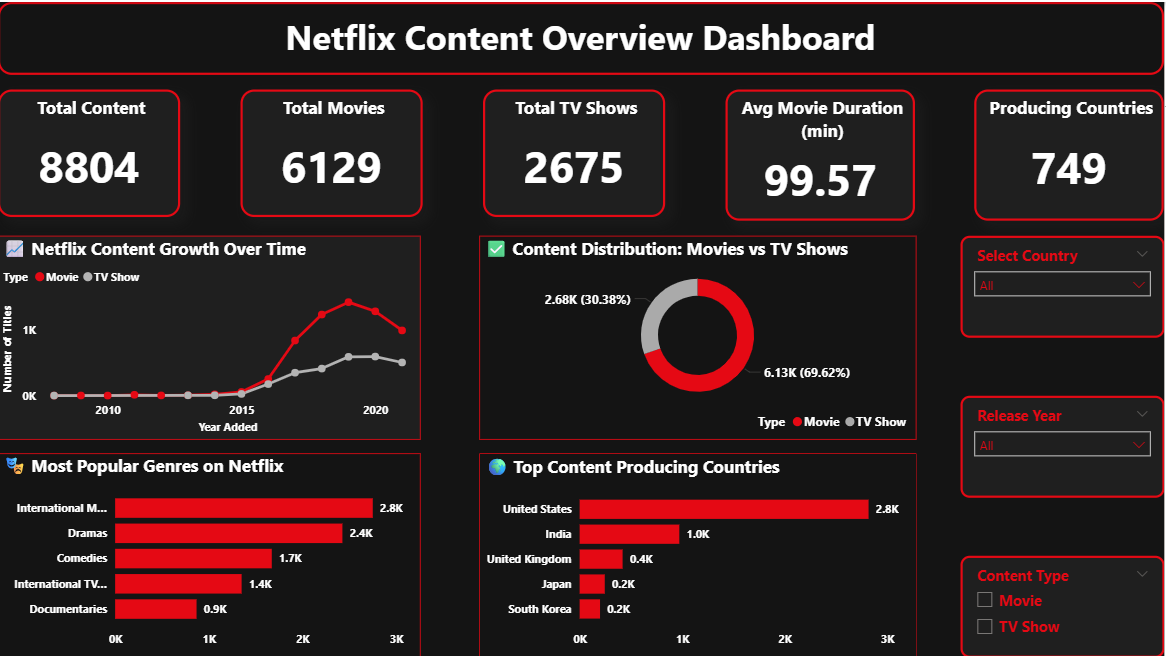

The page's visual inventory and layout, read from the dashboard file:
{"tool":"powerbi","page":{"name":"Page 1","canvas":[1280,720],"ordinal":0},"visuals":[{"type":"card","title":"Total Content","fields":{"Values":["Measures For NetFlix.Total Titles"]},"box":[0,96,200,140],"z":0},{"type":"card","title":"Total Movies","fields":{"Values":["Measures For NetFlix.Total Movies"]},"box":[266,96,200,140],"z":1000},{"type":"card","title":"Total TV Shows","fields":{"Values":["Measures For NetFlix.Total TV Shows"]},"box":[532,96,200,140],"z":2000},{"type":"card","title":"Avg Movie Duration (min)","fields":{"Values":["Measures For NetFlix.Avg Duration (Movies)"]},"box":[798,96,208,144],"z":3000},{"type":"card","title":"Producing Countries","fields":{"Values":["Measures For NetFlix.Unique Countries"]},"box":[1072,96,208,144],"z":4000},{"type":"lineChart","title":"📈 Netflix Content Growth Over Time","fields":{"Category":["NetflixTitles_Cleaned.date_added_clean.Variation.Date Hierarchy.Year"],"Y":["CountNonNull(NetflixTitles_Cleaned.show_id)"],"Series":["NetflixTitles_Cleaned.type"]},"box":[0,256,464,224],"z":5000},{"type":"donutChart","title":"✅ Content Distribution: Movies vs TV Shows","fields":{"Category":["NetflixTitles_Cleaned.type"],"Y":["CountNonNull(NetflixTitles_Cleaned.show_id)"]},"box":[528,256,480,224],"z":6000},{"type":"barChart","title":"🌍 Top Content Producing Countries","fields":{"Category":["NetflixCountries.country"],"Y":["CountNonNull(NetflixCountries.show_id)"]},"box":[528,496,480,224],"z":7000},{"type":"barChart","title":"🎭 Most Popular Genres on Netflix","fields":{"Category":["NetflixGenres.genre"],"Y":["CountNonNull(NetflixGenres.show_id)"]},"box":[0,496,464,224],"z":8000},{"type":"slicer","fields":{"Values":["NetflixTitles_Cleaned.type"]},"box":[1056,608,224,112],"z":9000},{"type":"slicer","fields":{"Values":["NetflixTitles_Cleaned.date_added_clean.Variation.Date Hierarchy.Year"]},"box":[1056,432,224,112],"z":10000},{"type":"slicer","fields":{"Values":["NetflixCountries.country"]},"box":[1056,256,224,112],"z":11000},{"type":"textbox","box":[0,0,1280,80],"z":12000}]}

Visuals, with their boxes in screenshot pixels (x1, y1, x2, y2), scaled from the page's 1280x720 canvas onto the 1166x656 screenshot:
"Total Content" card: <region>0, 87, 182, 215</region>
"Total Movies" card: <region>242, 87, 424, 215</region>
"Total TV Shows" card: <region>485, 87, 667, 215</region>
"Avg Movie Duration (min)" card: <region>727, 87, 916, 219</region>
"Producing Countries" card: <region>977, 87, 1165, 219</region>
"📈 Netflix Content Growth Over Time" lineChart: <region>0, 233, 423, 437</region>
"✅ Content Distribution: Movies vs TV Shows" donutChart: <region>481, 233, 918, 437</region>
"🌍 Top Content Producing Countries" barChart: <region>481, 452, 918, 655</region>
"🎭 Most Popular Genres on Netflix" barChart: <region>0, 452, 423, 655</region>
slicer - NetflixTitles_Cleaned.type: <region>962, 554, 1165, 655</region>
slicer - NetflixTitles_Cleaned.date_added_clean.Variation.Date Hierarchy.Year: <region>962, 394, 1165, 496</region>
slicer - NetflixCountries.country: <region>962, 233, 1165, 335</region>
textbox: <region>0, 0, 1165, 73</region>
